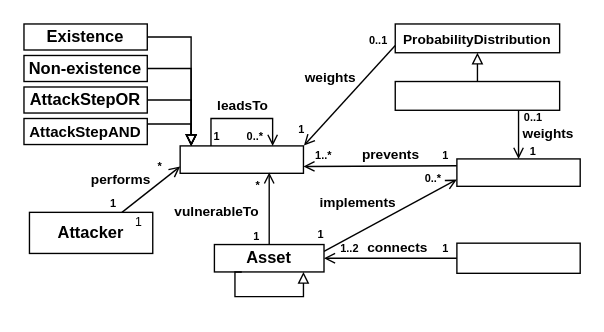
Image size: 604x332. Some labels were removed from this diagram. Here are the shapes that lost their labels. From the top down, the centre of each, then its label:
At point 477,95: "BernoulliDistribution".
At point 241,159: "AttackStep".
At point 518,172: "Defense".
At point 518,257: "Association".
